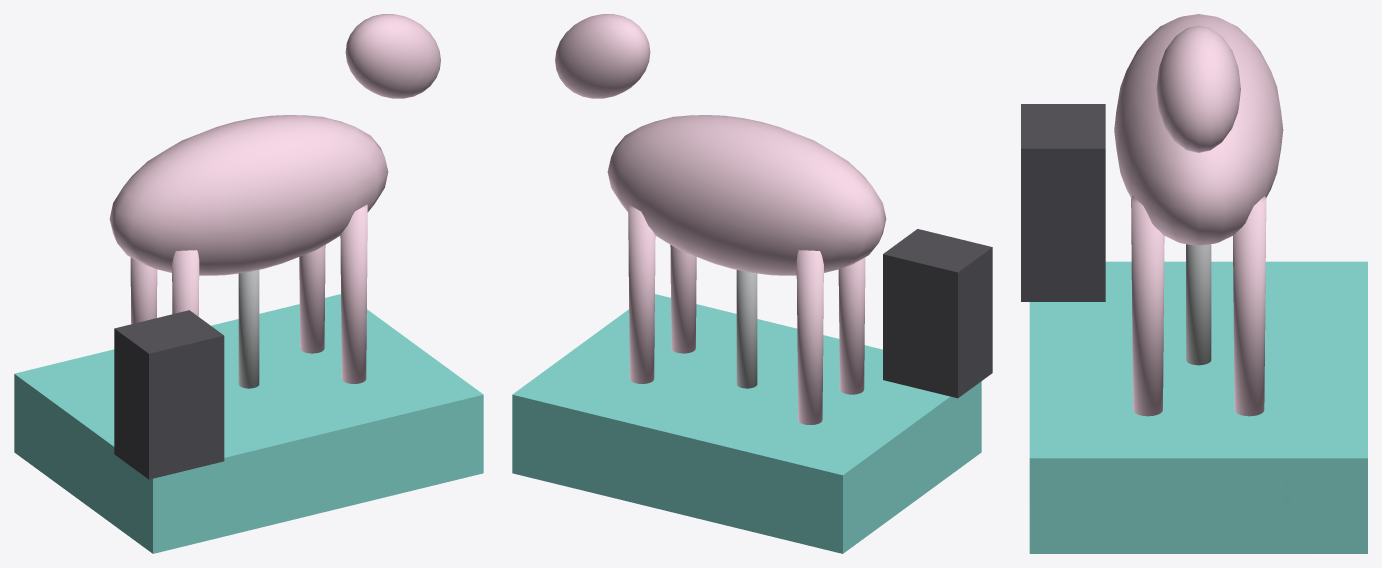
The model's file is kiddie_ride.glb.
The picture shows the model from 3 angles, left to right: view 1: azimuth 30°, elevation 25°; view 2: azimuth 150°, elevation 25°; view 3: azimuth 270°, elevation 25°; orthographic projection. The views are drawn at different scales.
Parts seen in each view (by area): view 1: box, pink, box.001, cyl.004; view 2: box, pink, box.001, cyl.004; view 3: box, pink, box.001, cyl.004.
Boxes of the visible parts, x1,y1,x2,y2 form: box: (14, 294, 483, 553); pink: (109, 14, 440, 383); box.001: (114, 310, 224, 479); cyl.004: (238, 270, 259, 388); box: (512, 294, 981, 553); pink: (555, 14, 886, 424); box.001: (883, 229, 992, 398); cyl.004: (736, 270, 757, 388); box: (1029, 261, 1367, 553); pink: (1114, 14, 1283, 416); box.001: (1021, 104, 1105, 301); cyl.004: (1186, 244, 1211, 365).
Bounding box in the file's own units: 1.2 × 1.31 × 0.82.
